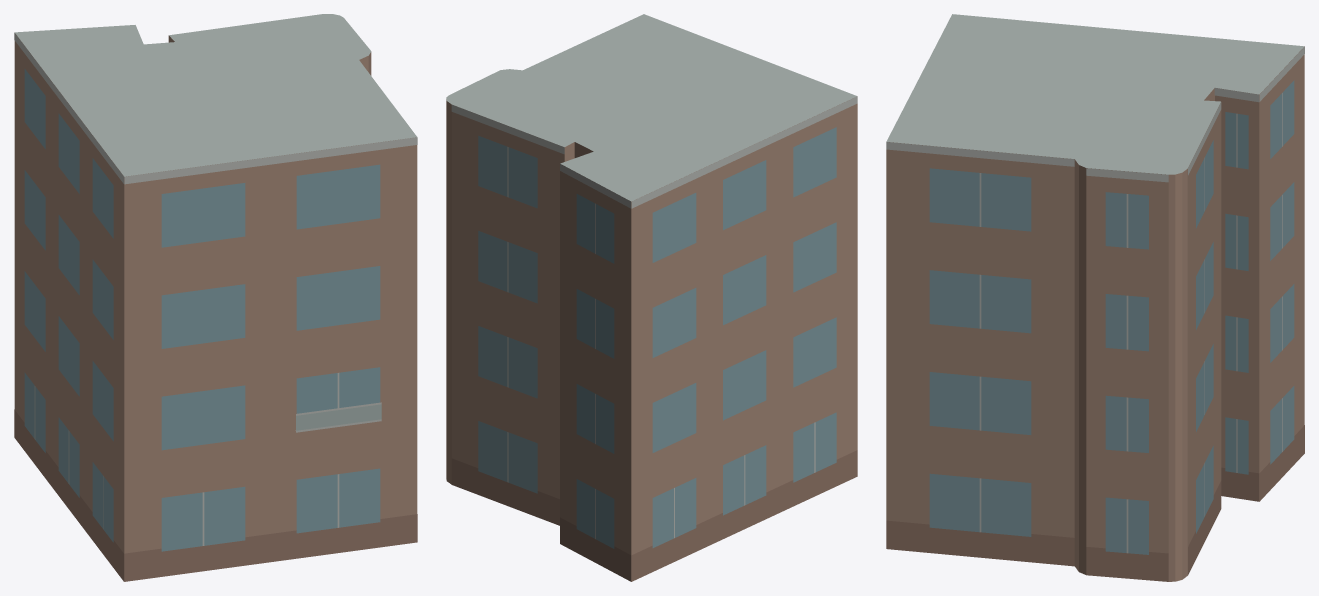
File: survey-upis-32513323.glb
3 views of the same model, side by side, from view 1: azimuth 30°, elevation 25°; view 2: azimuth 150°, elevation 25°; view 3: azimuth 270°, elevation 25° (orthographic). The views are drawn at different scales.
Visible parts, largest first — view 1: survey-upis-32513323.tmp; view 2: survey-upis-32513323.tmp; view 3: survey-upis-32513323.tmp.
Part boxes in pixels (x1=…): survey-upis-32513323.tmp: x1=14, y1=14, x2=417, y2=581; survey-upis-32513323.tmp: x1=446, y1=14, x2=857, y2=581; survey-upis-32513323.tmp: x1=886, y1=14, x2=1304, y2=581.
Bounding box in the file's own units: 10.84 × 12.8 × 11.93.
